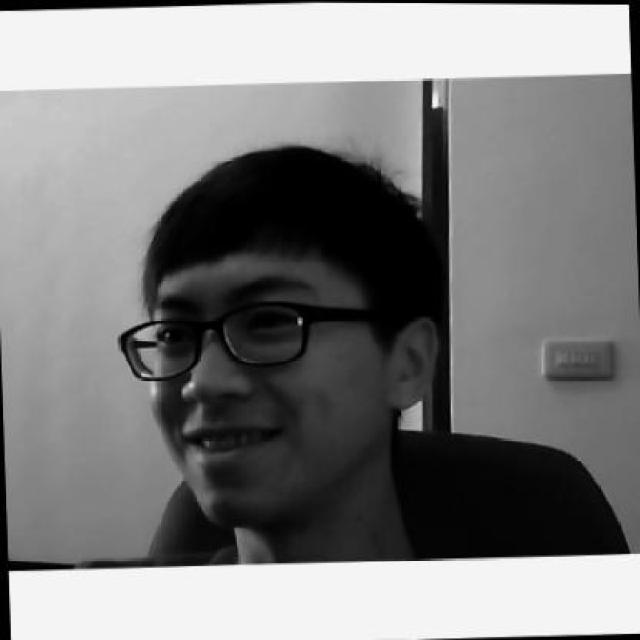attentif: (113, 141, 444, 530)
